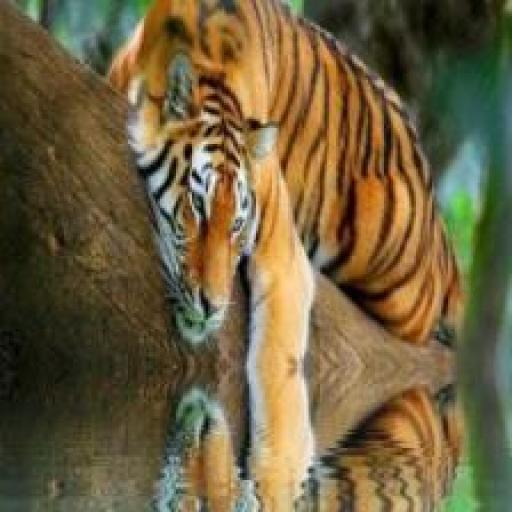Tiger: (84, 0, 474, 381)
